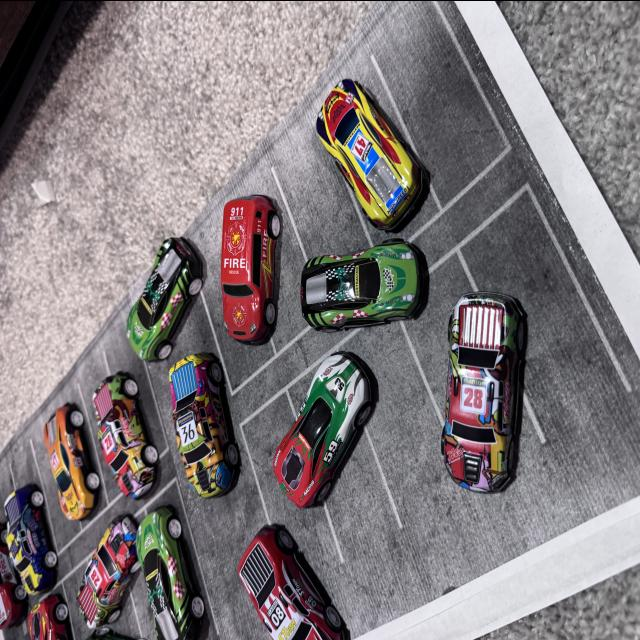car: (299, 89, 487, 235), (432, 264, 540, 492), (296, 220, 440, 348), (122, 182, 212, 364), (239, 516, 355, 640), (268, 340, 361, 494), (92, 368, 180, 522), (76, 496, 176, 618), (204, 211, 280, 363), (166, 342, 234, 498), (136, 462, 192, 640), (41, 398, 101, 537), (10, 466, 48, 610), (14, 576, 74, 640), (0, 514, 26, 639)
